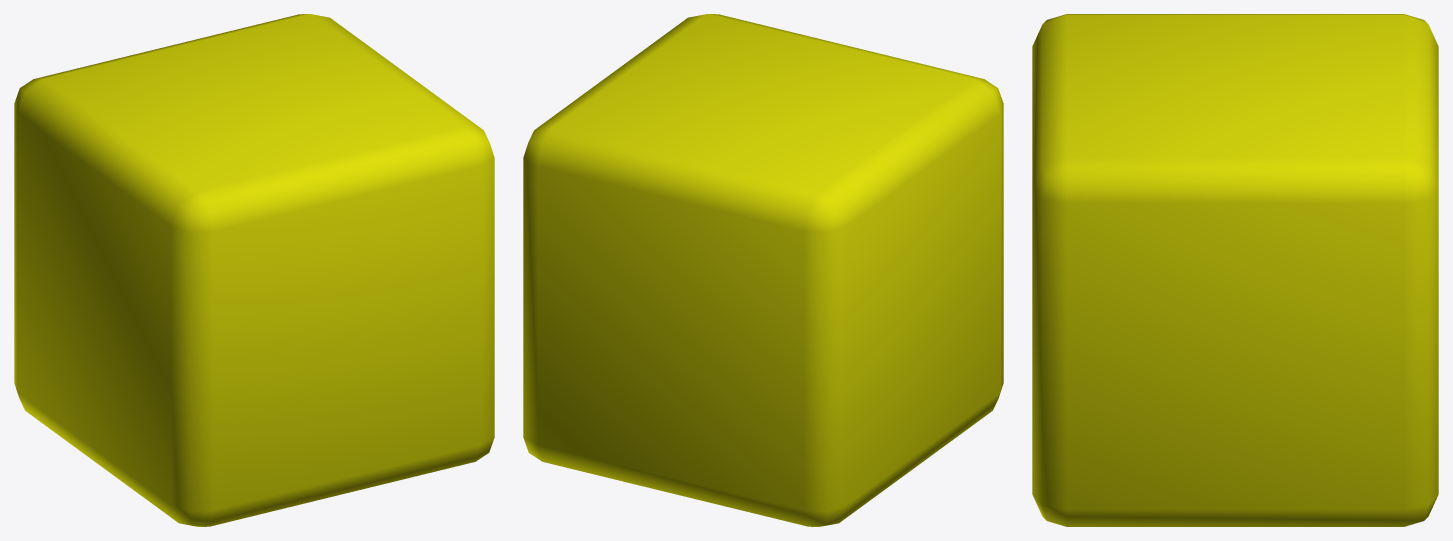
File: cubeJelly.fbx
The picture shows the model from 3 angles, left to right: view 1: azimuth 30°, elevation 25°; view 2: azimuth 150°, elevation 25°; view 3: azimuth 270°, elevation 25°; orthographic projection. The views are drawn at different scales.
Visible parts, largest first — view 1: cubeJelly; view 2: cubeJelly; view 3: cubeJelly.
Part boxes in pixels (left/top/right/bottom): cubeJelly: left=14, top=14, right=494, bottom=526; cubeJelly: left=523, top=14, right=1003, bottom=526; cubeJelly: left=1032, top=14, right=1438, bottom=526.
Bounding box in the file's own units: 60.79 × 60.79 × 60.79.
